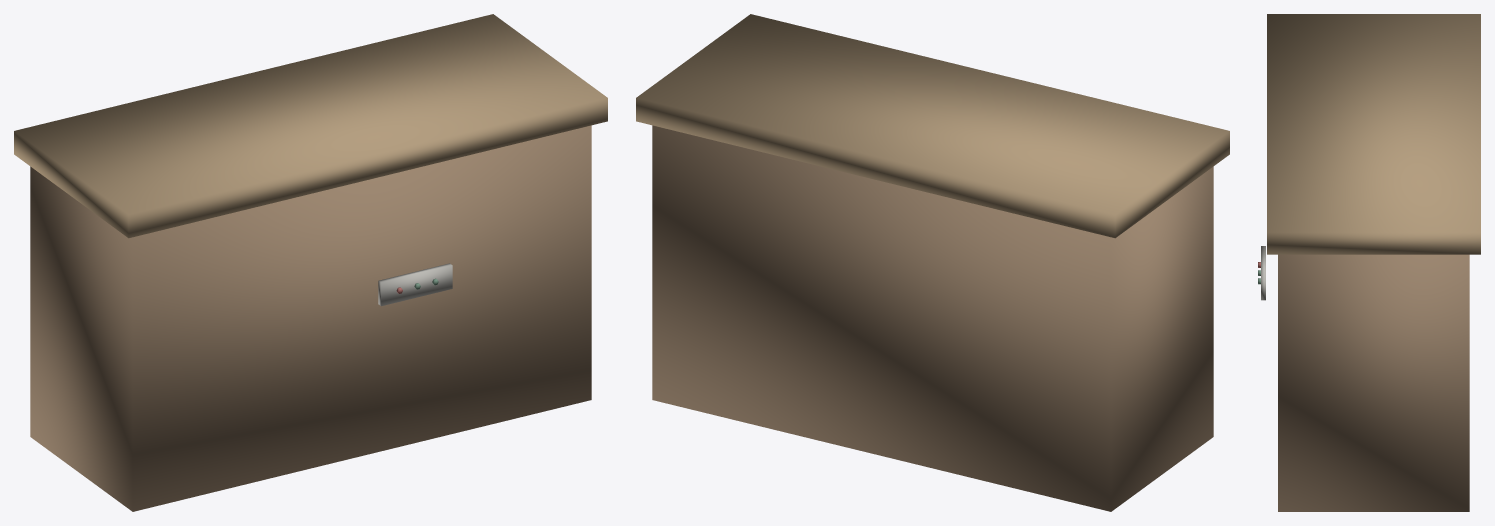
File: hotel_reception_counter__compact.glb
3 renders of one model, left to right at view 1: azimuth 30°, elevation 25°; view 2: azimuth 150°, elevation 25°; view 3: azimuth 270°, elevation 25°, orthographic. The views are drawn at different scales.
Parts seen in each view (by area): view 1: world; view 2: world; view 3: world.
Boxes of the visible parts, x1=… form: world: x1=14, y1=14, x2=607, y2=511; world: x1=636, y1=14, x2=1229, y2=511; world: x1=1258, y1=14, x2=1480, y2=511.
Size of the model in its own units: 1.58 by 0.9579 by 0.6803.
